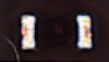COMP: (13, 11, 99, 54)
STAN: (1, 32, 21, 62), (8, 40, 20, 55)
